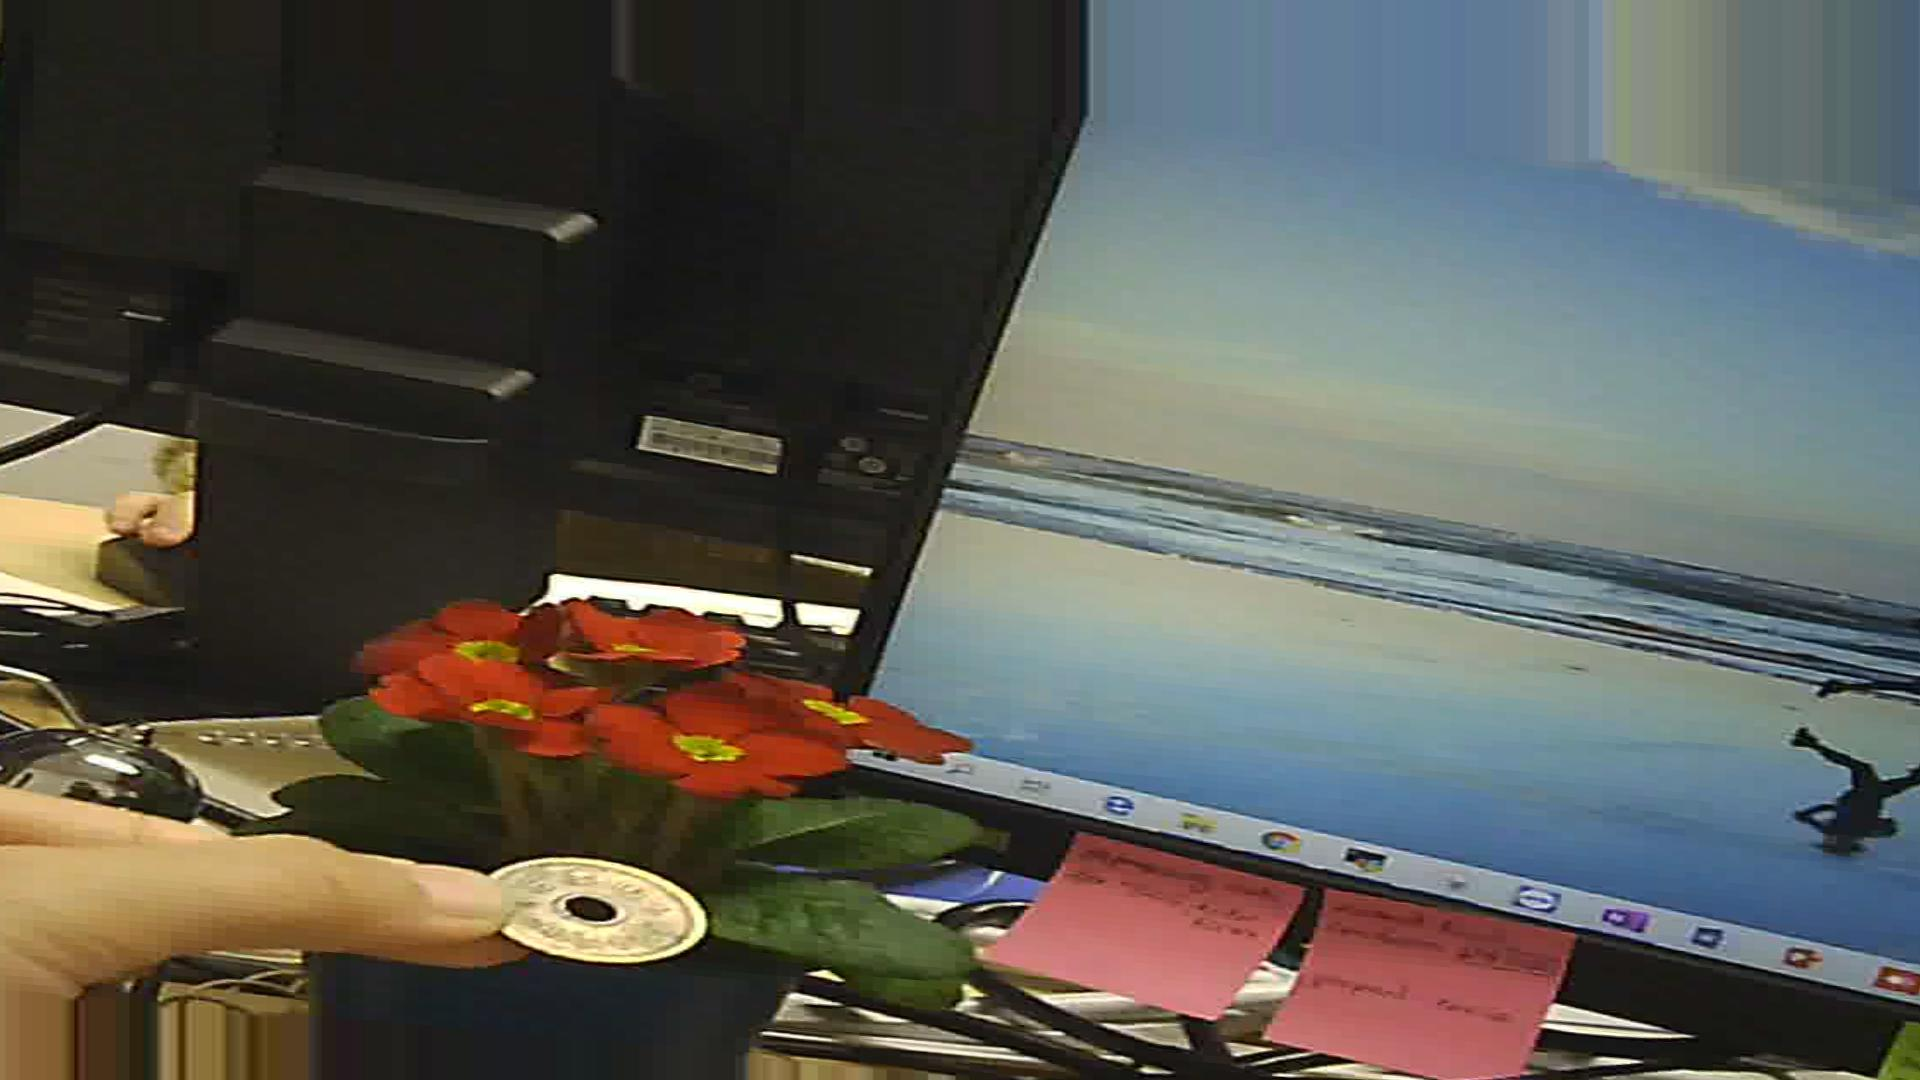5 Yen: (471, 848, 702, 975)
